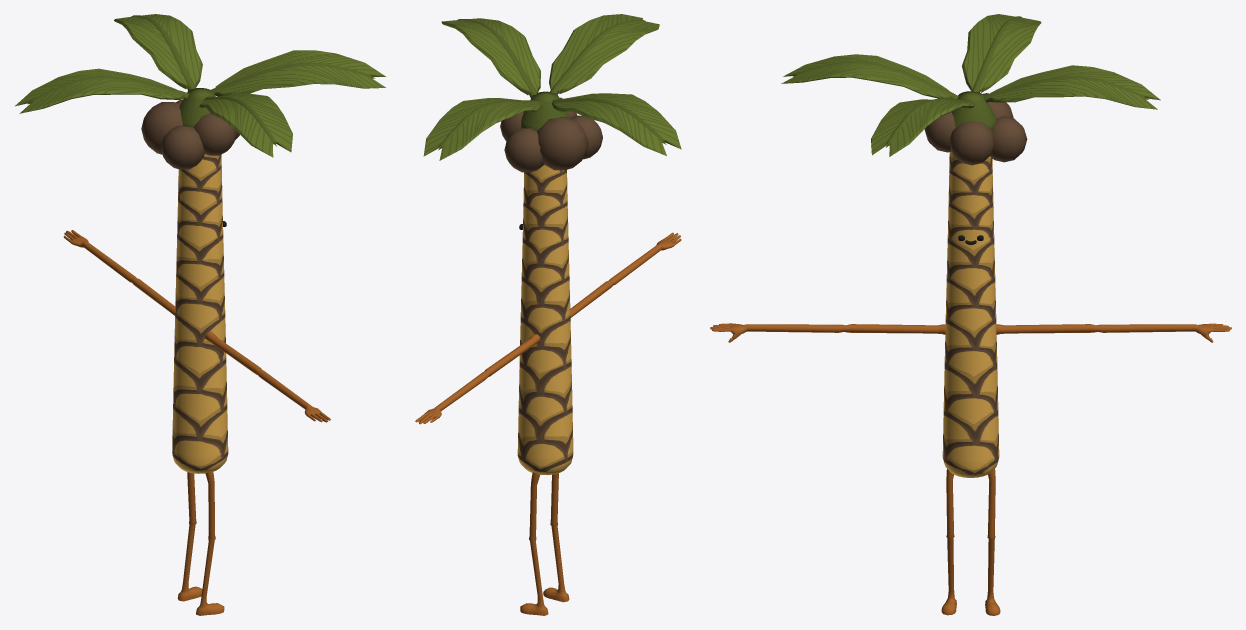
The model's file is Palm Tree Character.glb.
3 views of the same model, side by side, from view 1: azimuth 30°, elevation 25°; view 2: azimuth 150°, elevation 25°; view 3: azimuth 270°, elevation 25° (orthographic).
Visible parts, largest first — view 1: _100Avatars_108_ChillPalm; view 2: _100Avatars_108_ChillPalm; view 3: _100Avatars_108_ChillPalm.
Boxes of the visible parts, box(x1,y1,x2,y2) form: _100Avatars_108_ChillPalm: box(15, 14, 386, 615); _100Avatars_108_ChillPalm: box(415, 14, 681, 615); _100Avatars_108_ChillPalm: box(710, 14, 1231, 615).
Size of the model in its own units: 4.34 by 7.38 by 6.42.
1 material, 1 textured.
